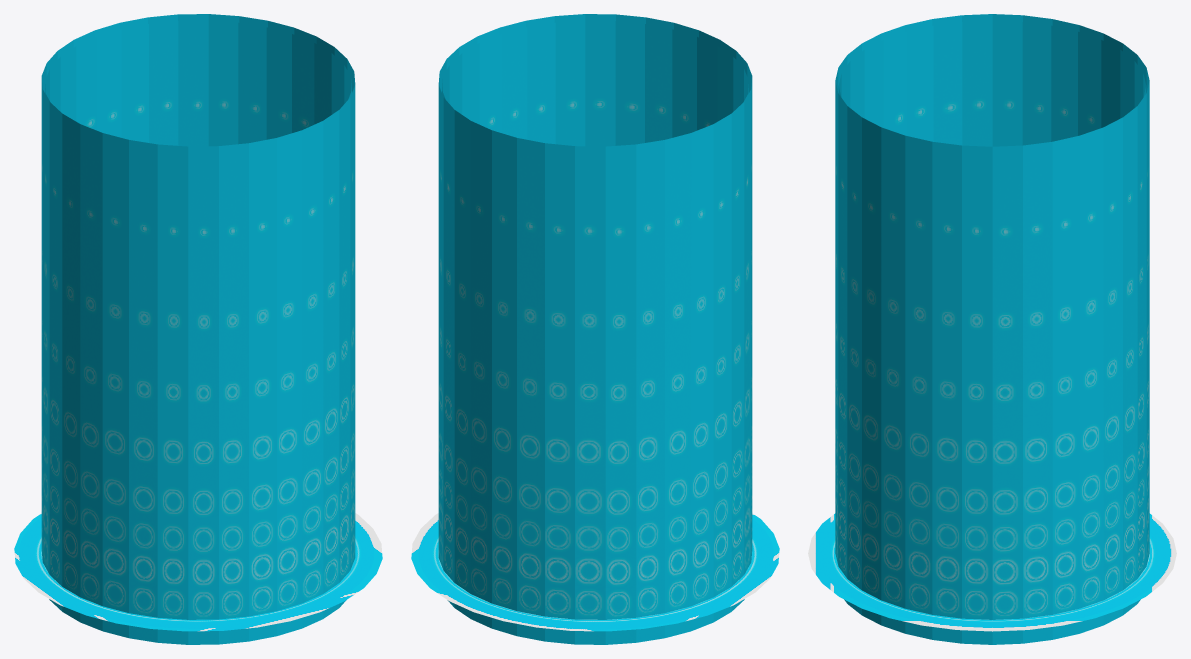
Rendered from teleport.fbx.
3 views of the same model, side by side, from view 1: azimuth 30°, elevation 25°; view 2: azimuth 150°, elevation 25°; view 3: azimuth 270°, elevation 25° (orthographic).
Visible parts, largest first — view 1: Cylinder; view 2: Cylinder; view 3: Cylinder.
Part boxes in pixels (x1,y1,x2,y2): Cylinder: [14, 14, 382, 644]; Cylinder: [411, 14, 779, 644]; Cylinder: [808, 14, 1176, 644].
Size of the model in its own units: 154 by 230 by 154.
Materials: 1 (1 with a texture image).
